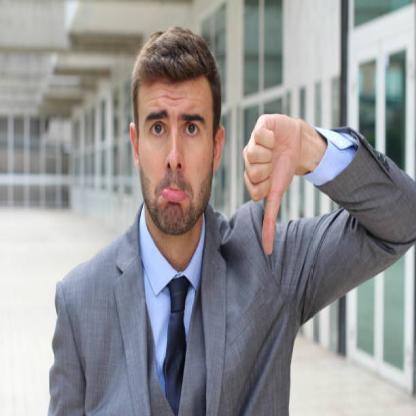thumb_down: (241, 109, 303, 257)
